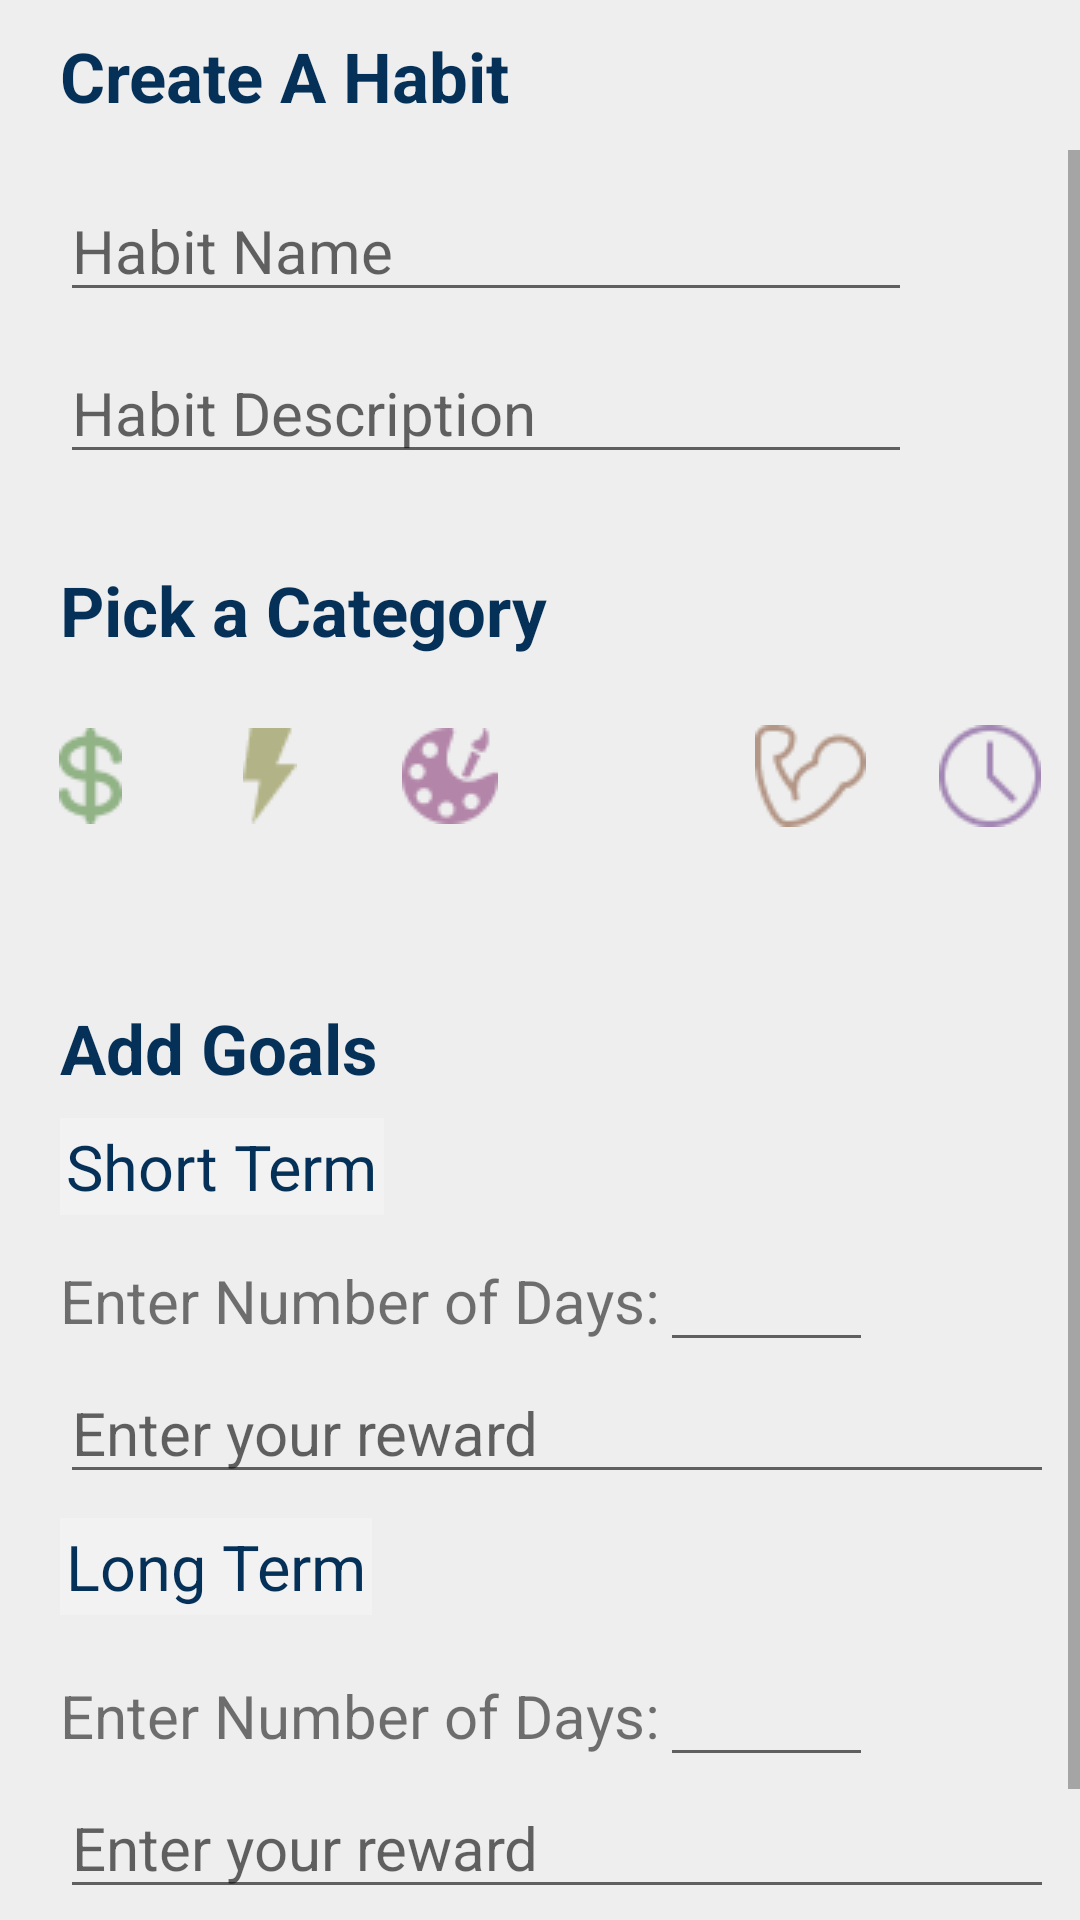

Icon bounding boxes for this 1080w x 1920h phone screenshot, format (x1, y1, x2, y2):
creativity: (402, 728, 498, 824)
energy: (243, 728, 297, 824)
financial: (59, 728, 122, 824)
health: (755, 725, 866, 827)
productivity: (939, 725, 1041, 827)
